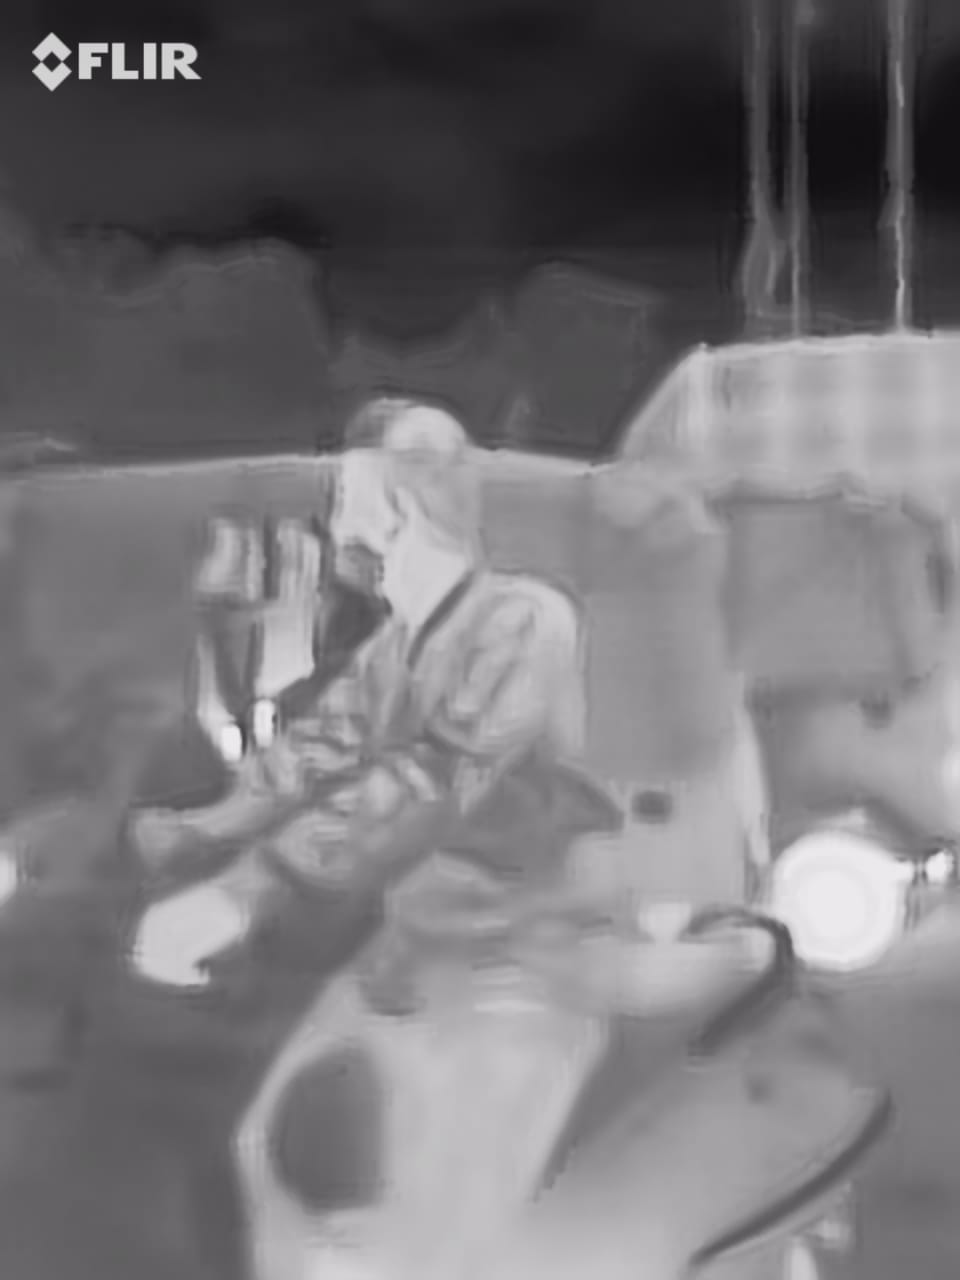head: (310, 392, 487, 618)
